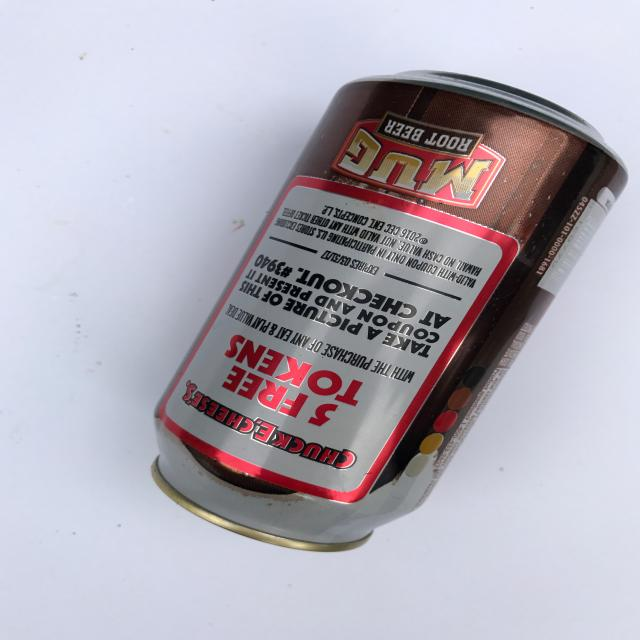metal: (150, 68, 628, 552)
